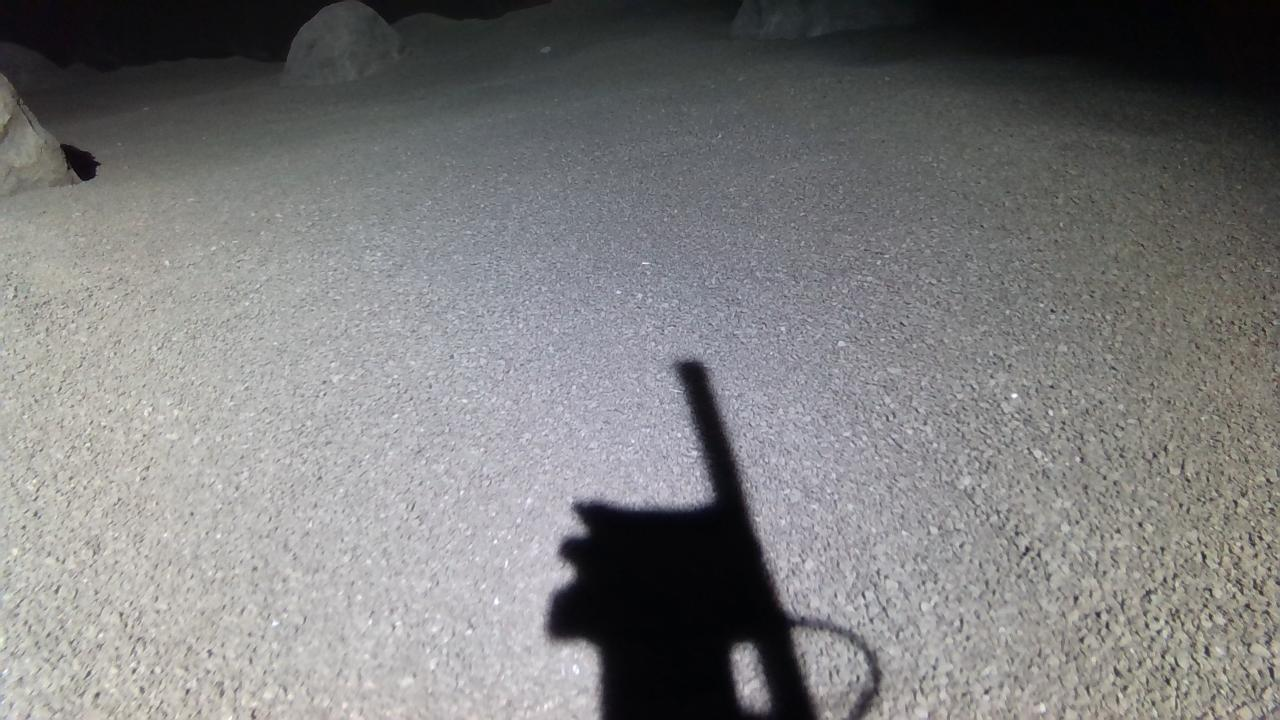rock: (284, 1, 402, 82)
